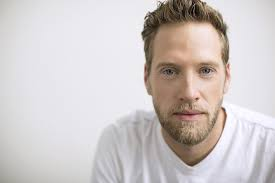white_male: (149, 36, 221, 137)
